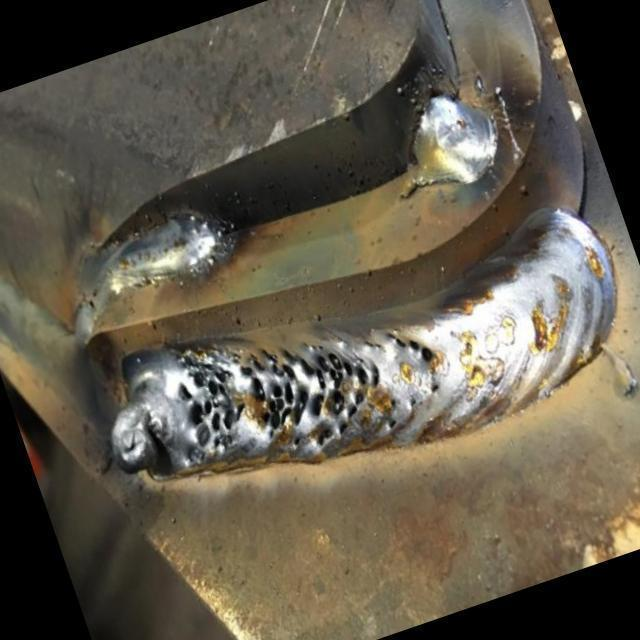defect: (234, 343, 378, 450), (174, 351, 247, 453), (380, 319, 442, 369), (360, 335, 380, 355), (424, 378, 443, 399), (386, 416, 401, 432), (408, 395, 422, 408), (386, 395, 397, 408)
